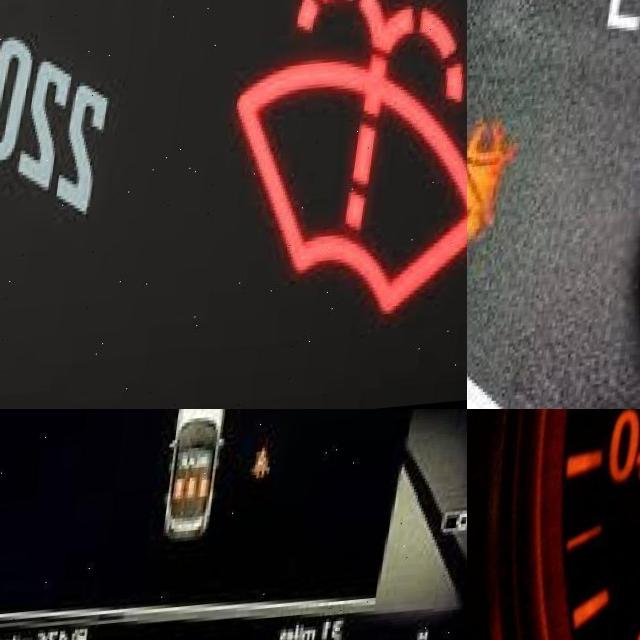Seat Belt: (467, 125, 522, 245), (258, 452, 282, 489)
